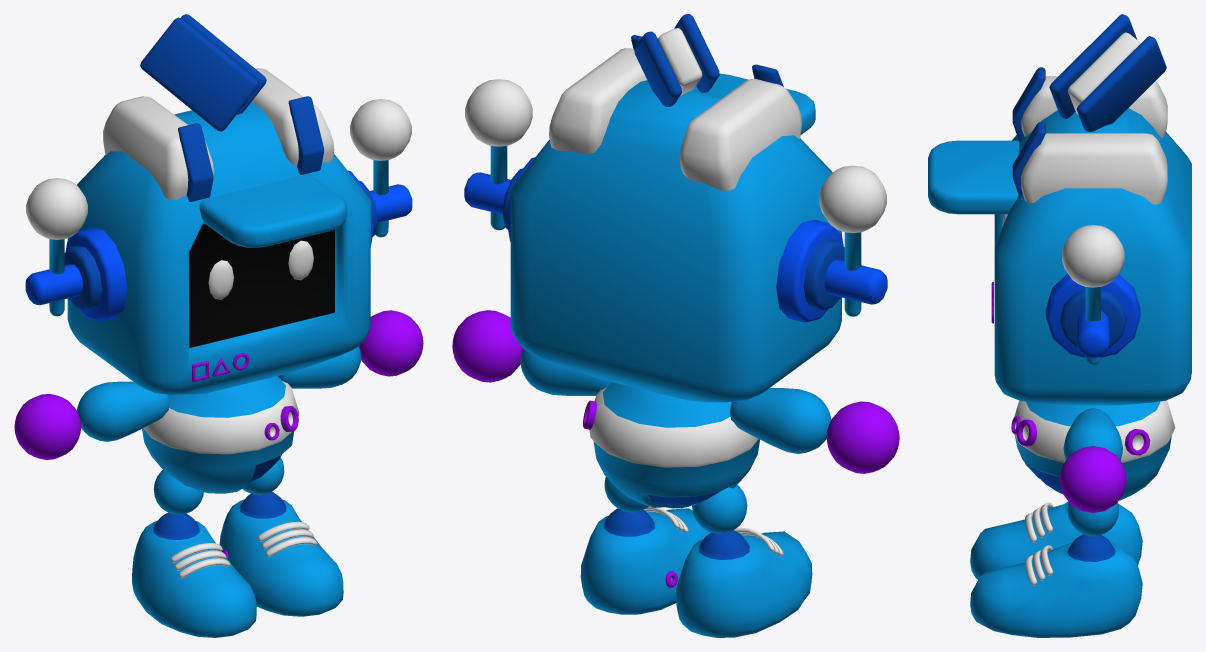
File: RetroComputerBot3000.fbx
3 views of the same model, side by side, from view 1: azimuth 30°, elevation 25°; view 2: azimuth 150°, elevation 25°; view 3: azimuth 270°, elevation 25° (orthographic). The views are drawn at different scales.
Visible parts, largest first — view 1: Eyes; view 2: Eyes; view 3: Eyes.
Part boxes in pixels (left/top/right/bottom): Eyes: left=14, top=14, right=423, bottom=637; Eyes: left=452, top=14, right=899, bottom=637; Eyes: left=928, top=14, right=1191, bottom=637.
Bounding box in the file's own units: 651 × 878 × 366.
